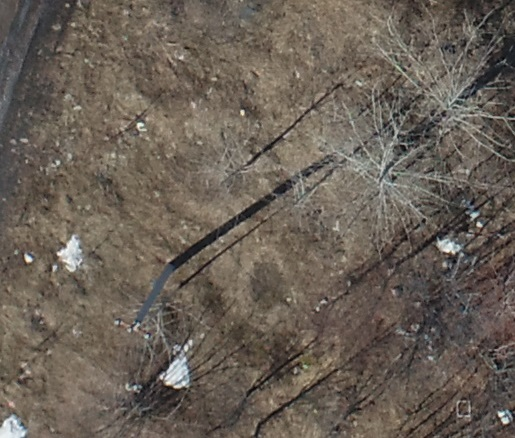opora: (112, 228, 223, 342)
